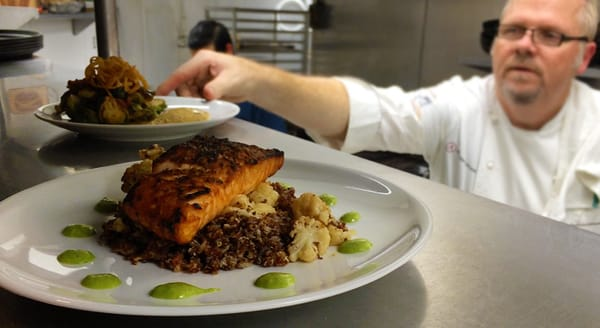sushi: (0, 29, 44, 59), (0, 6, 39, 31)
